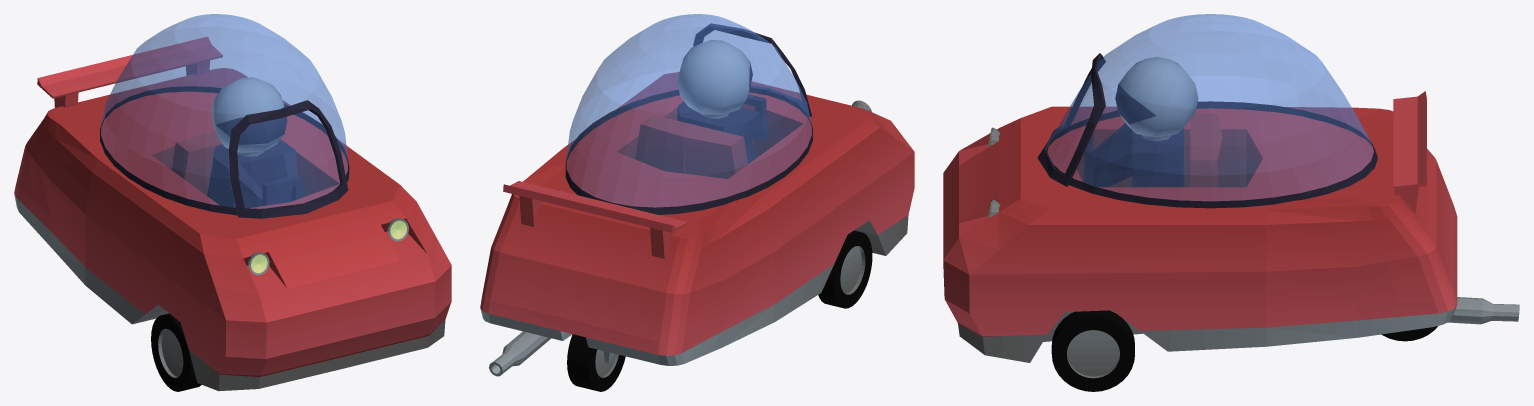
File: kupla_r1.glb
3 renders of one model, left to right at view 1: azimuth 30°, elevation 25°; view 2: azimuth 150°, elevation 25°; view 3: azimuth 270°, elevation 25°, orthographic. The views are drawn at different scales.
Parts seen in each view (by area): view 1: Body, Dome, Driver, wheel-front-right; view 2: Body, Dome, Driver, wheel-front-right, wheel-back; view 3: Body, Dome, Driver, wheel-front-left.
Boxes of the visible parts, x1,y1,x2,y2 form: Body: (14,37,451,391); Dome: (100,14,349,218); Driver: (207,77,302,208); wheel-front-right: (151,313,201,391); Body: (480,72,914,376); Dome: (565,14,812,214); Driver: (677,40,769,163); wheel-front-right: (818,230,872,308); wheel-back: (567,334,625,391); Body: (943,91,1519,362); Dome: (1037,14,1377,208); Driver: (1084,57,1198,187); wheel-front-left: (1051,310,1134,391).
Bounding box in the file's own units: 1.28 × 1.6 × 2.68.
1 material, 1 textured.
